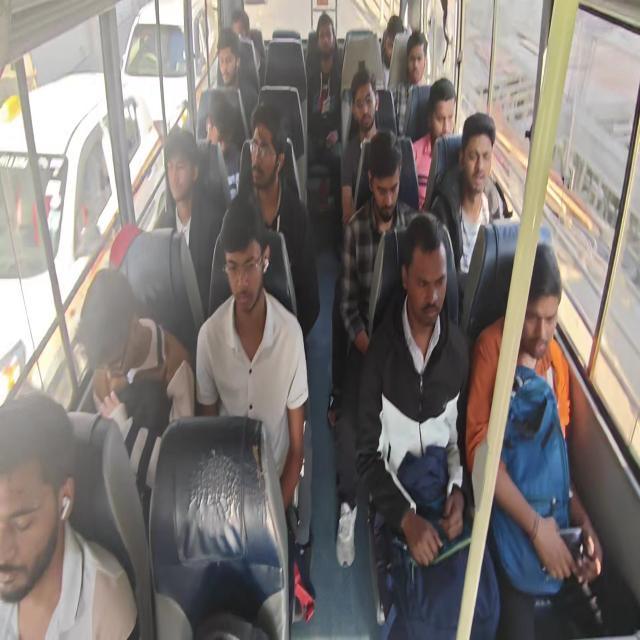person: (4, 3, 615, 637), (354, 211, 500, 638), (465, 241, 603, 638), (328, 129, 420, 567), (194, 198, 310, 514), (0, 390, 138, 639), (76, 267, 195, 534), (208, 102, 320, 338), (151, 129, 222, 319), (429, 111, 507, 276), (196, 27, 258, 145), (340, 68, 380, 232), (411, 76, 456, 210), (306, 12, 342, 164), (390, 30, 430, 138), (206, 91, 242, 201), (230, 8, 264, 93), (380, 14, 404, 90)
